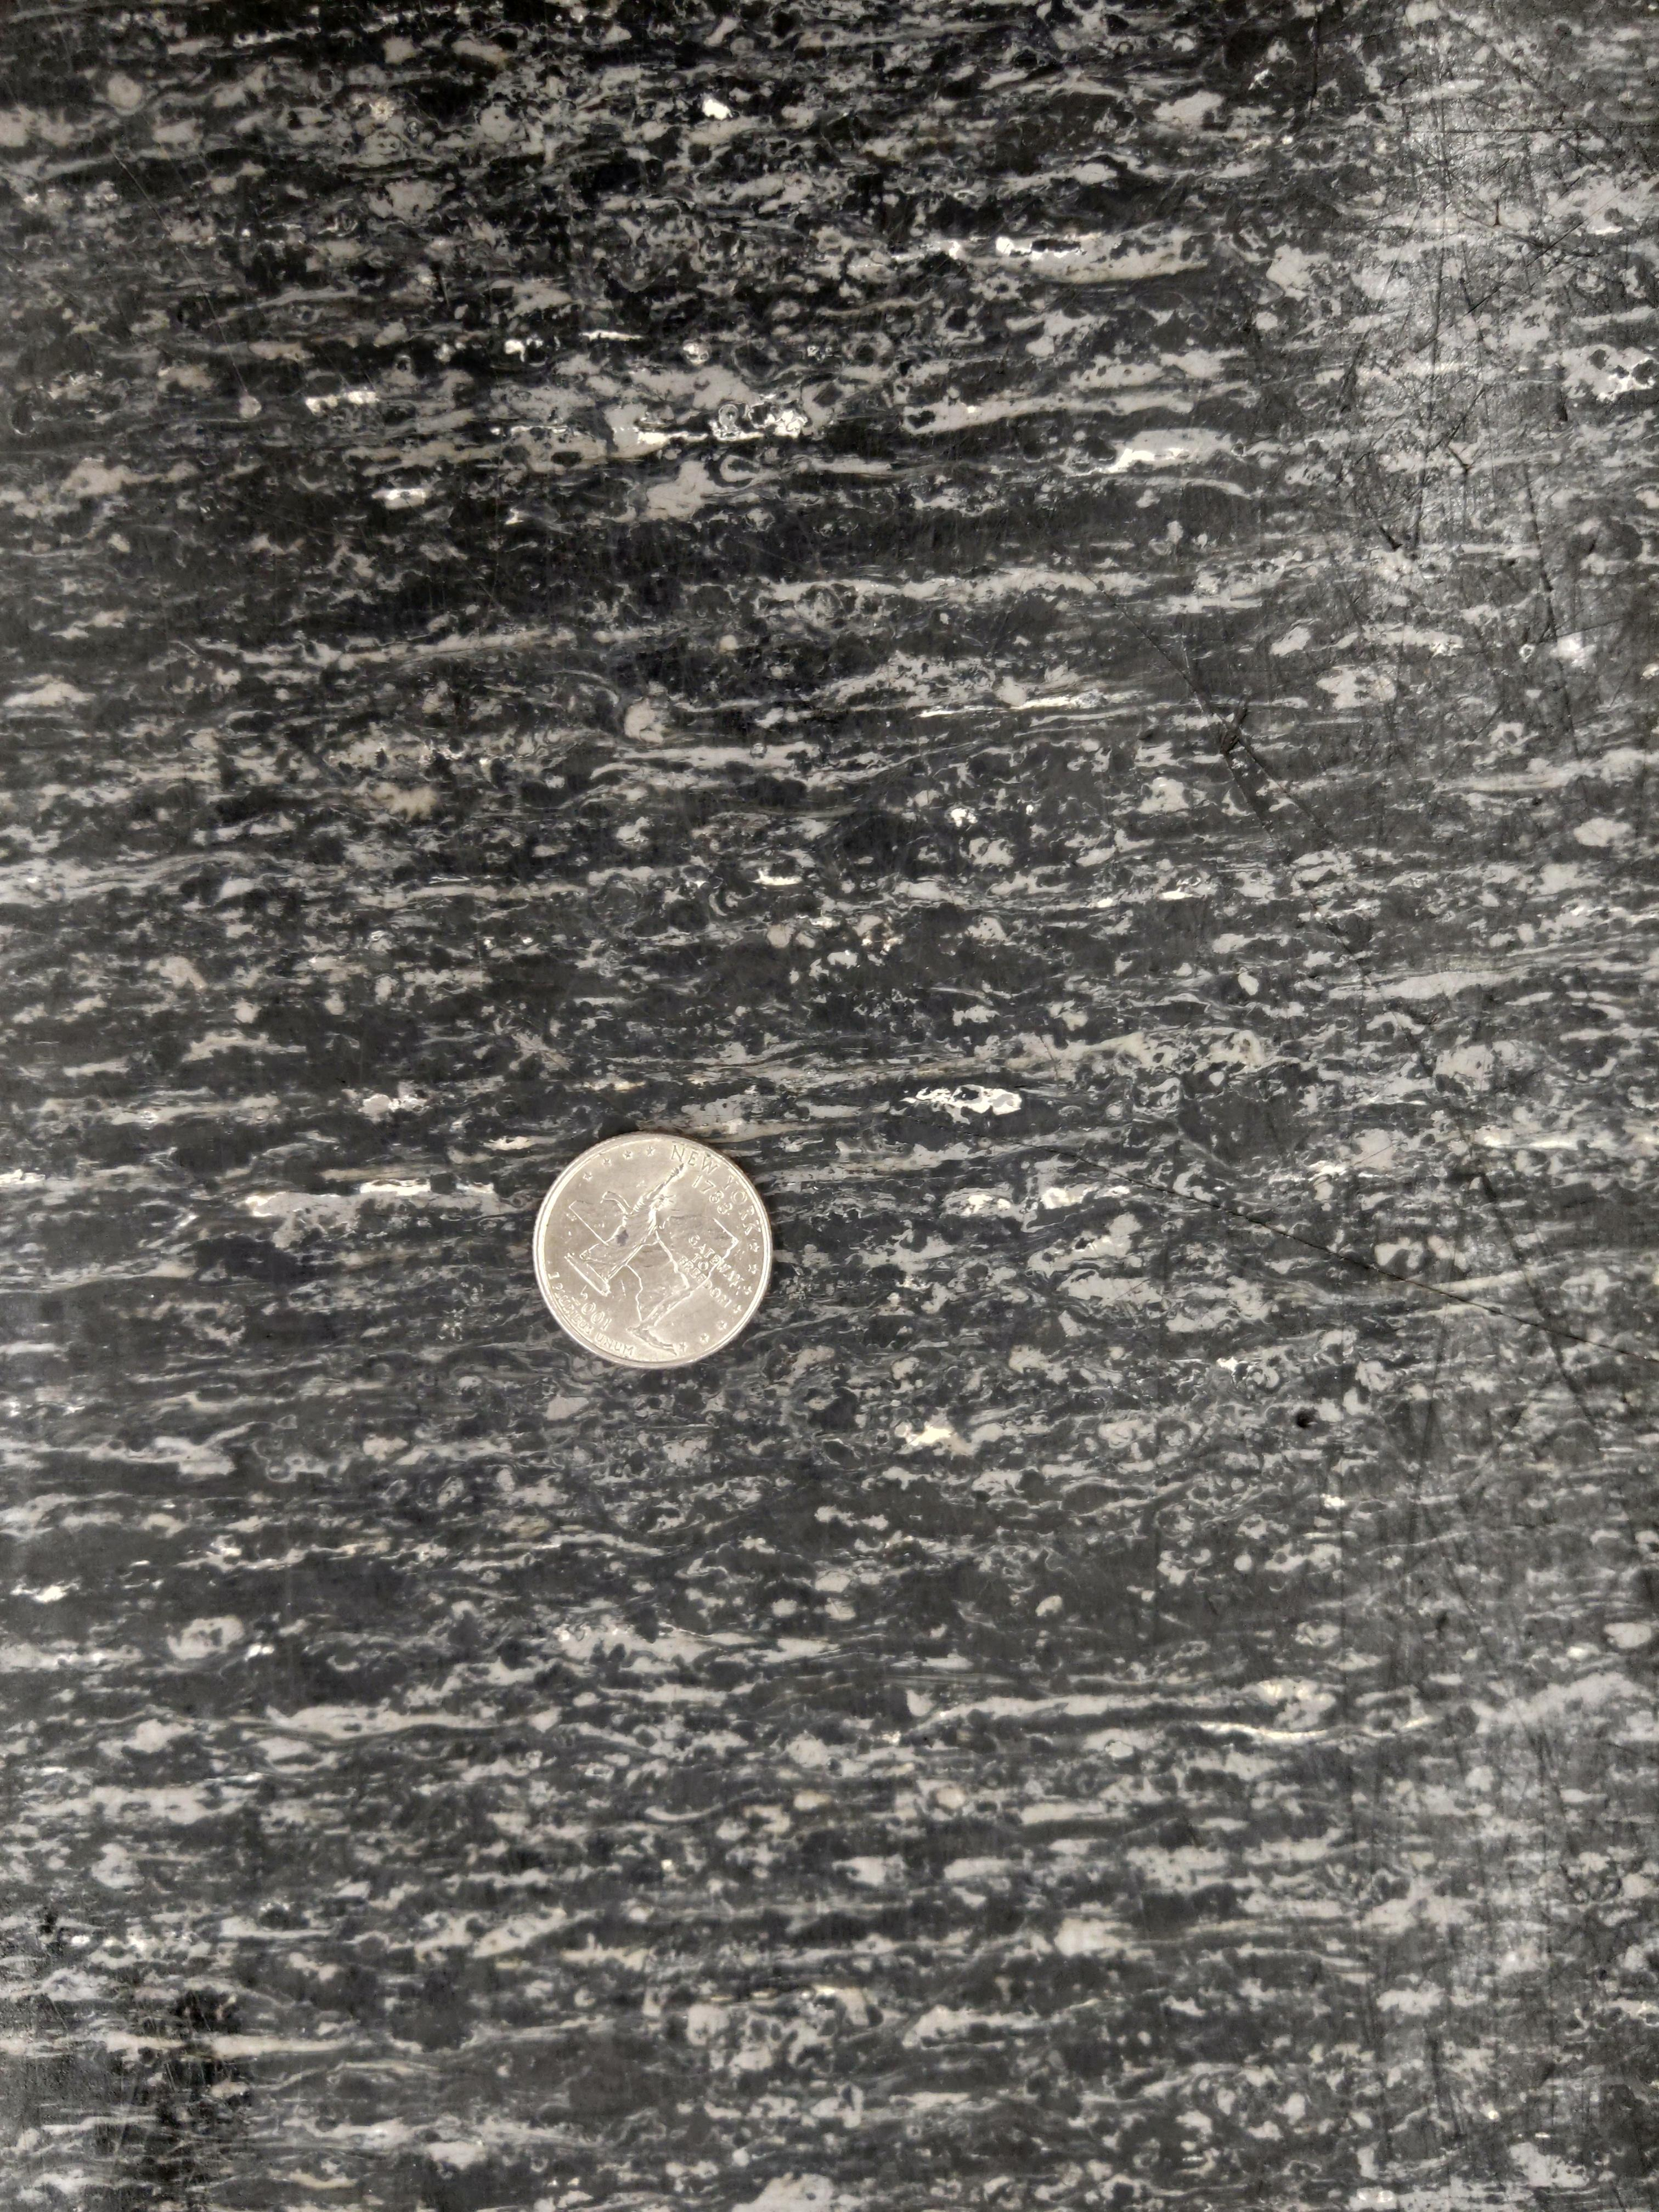Quarter: (530, 1130, 777, 1372)
